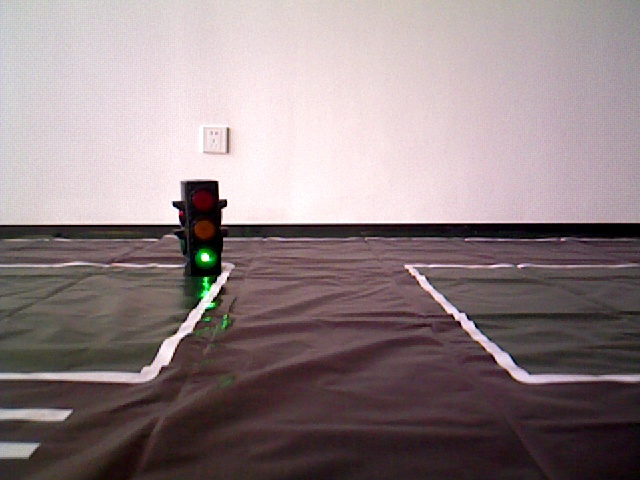green: (178, 184, 222, 270)
